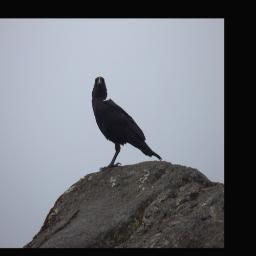Crow: (90, 75, 162, 170)
